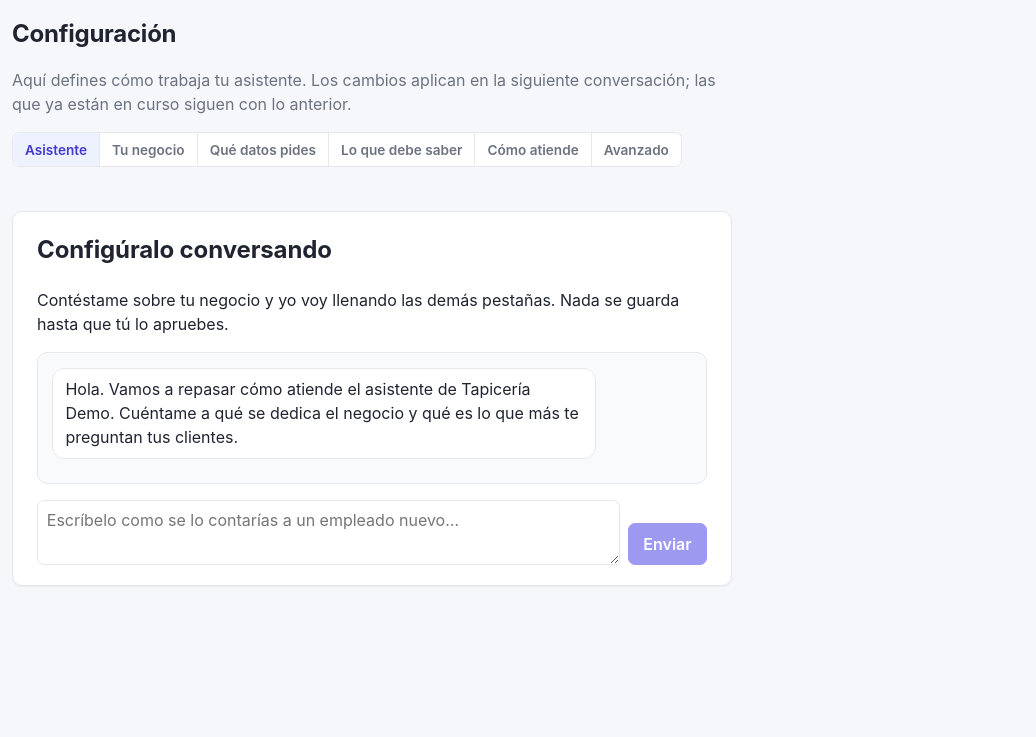
Test: los datos del negocio propuestos se añaden a los que ya había
The width and height of the screenshot is (1036, 737).
Check: the tab "Asistente" is shown, box [13, 133, 100, 166]
Click the tab "Lo que debe saber". click: {"x": 402, "y": 150}
box: [329, 133, 475, 166]
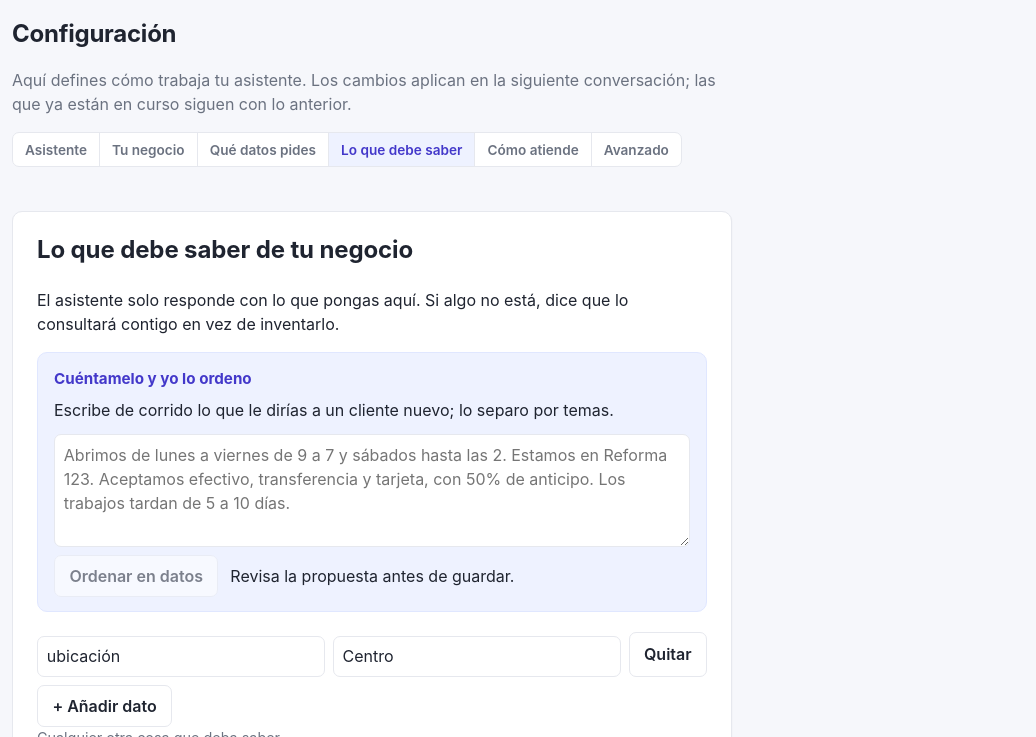
Replace the text in the text box named "Cuéntamelo y yo lo ordeno" with "Abrimos de lunes a viernes de 9 a 7.". click: {"x": 372, "y": 491}
box: [54, 434, 690, 547]
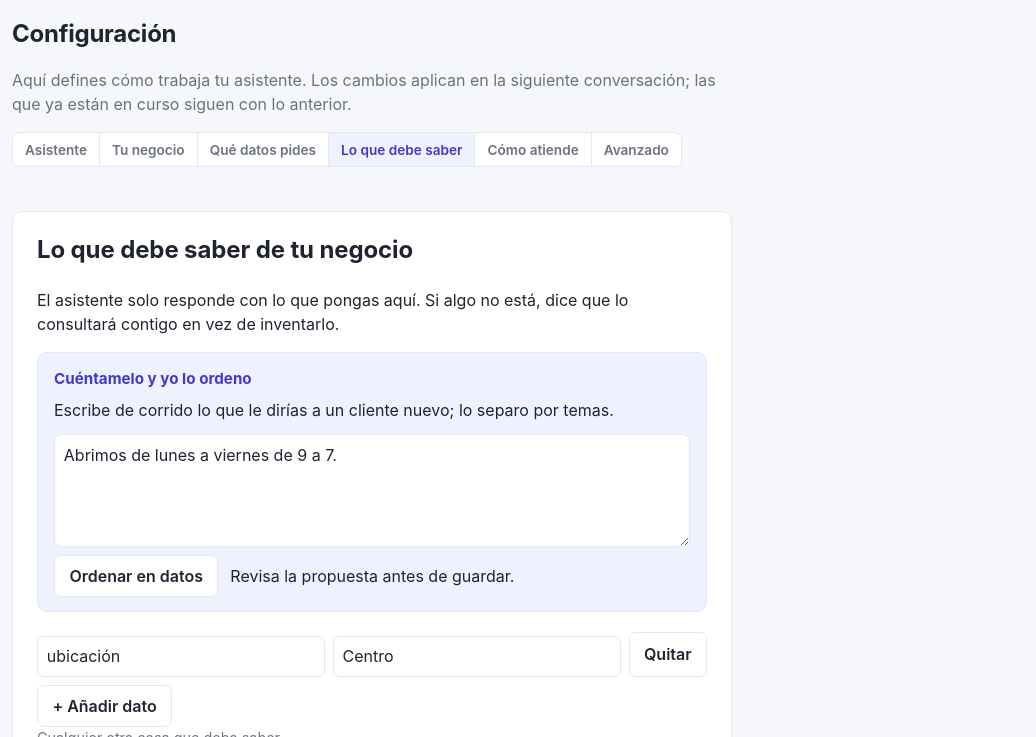
Click the button "Ordenar en datos". click: {"x": 136, "y": 576}
box: [54, 555, 218, 597]
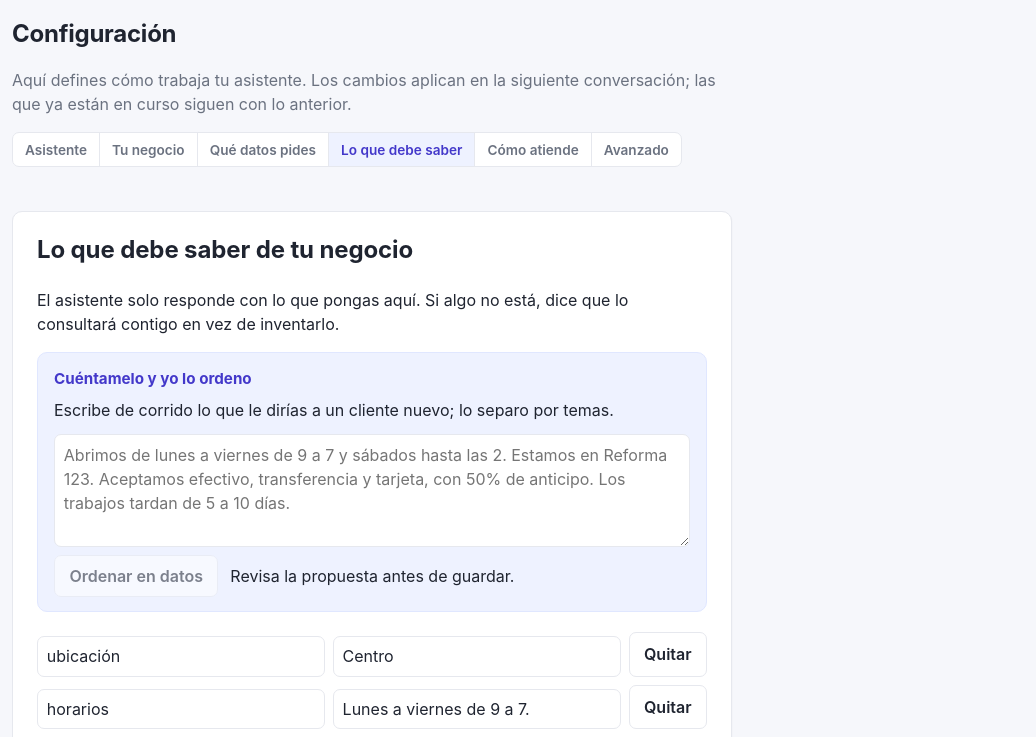
Check: the field showing "ubicación" is shown, box [37, 636, 325, 677]
Check: the field showing "horarios" is shown, box [37, 689, 325, 729]
